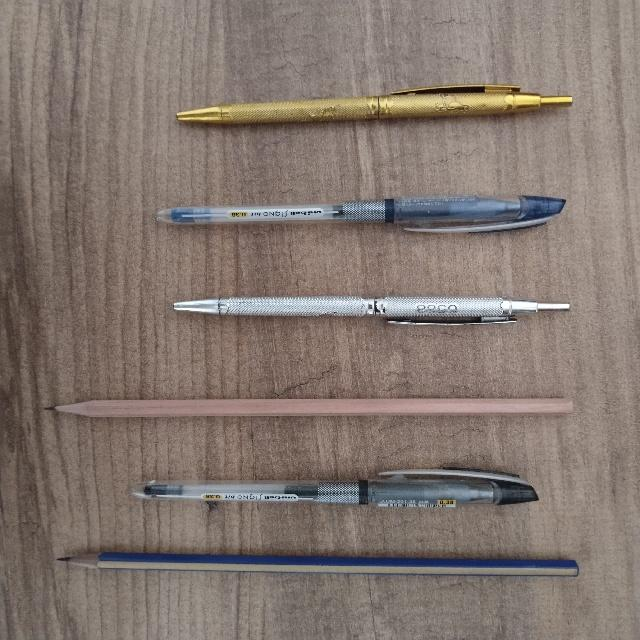pen: (132, 469, 537, 506), (156, 196, 564, 232)
pencil: (59, 552, 577, 576), (50, 398, 572, 417)
signature pen: (177, 84, 571, 124), (173, 296, 569, 323)
